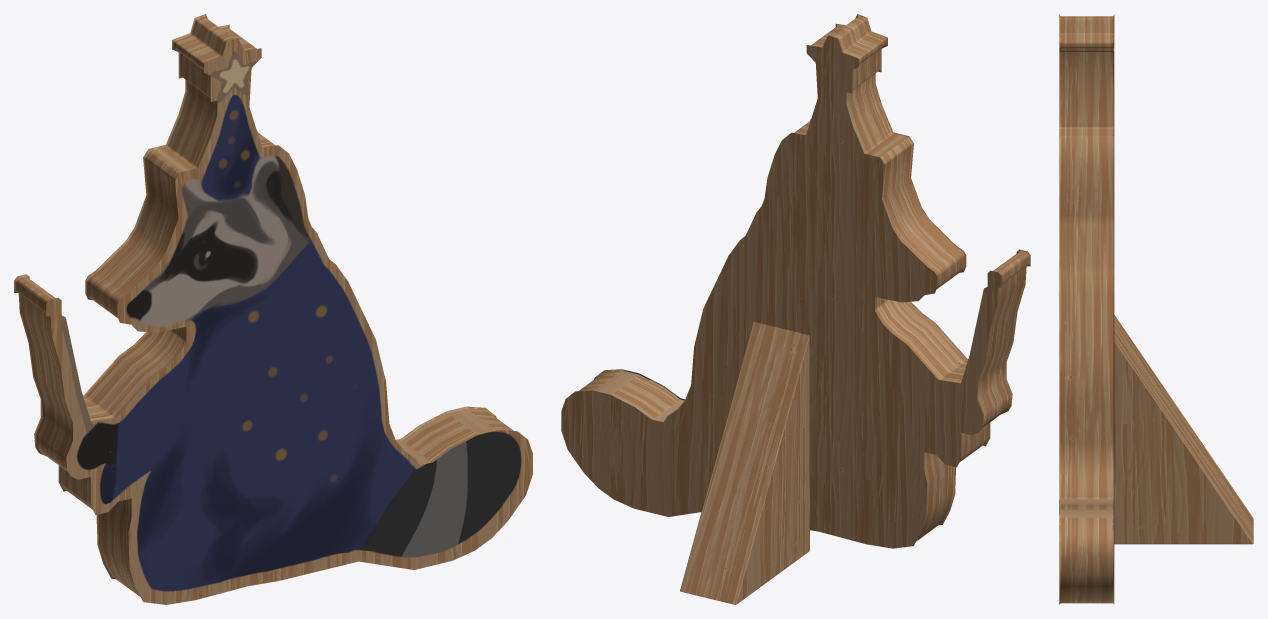
File: frame_1.glb
3 views of the same model, side by side, from view 1: azimuth 30°, elevation 25°; view 2: azimuth 150°, elevation 25°; view 3: azimuth 270°, elevation 25° (orthographic). The views are drawn at different scales.
Parts seen in each view (by area): view 1: frame_1_Block; view 2: frame_1_Block, frame_1_RearBrace; view 3: frame_1_Block, frame_1_RearBrace.
Boxes of the visible parts, bbox=[...] form: frame_1_Block: bbox=[14, 14, 532, 604]; frame_1_Block: bbox=[561, 14, 1030, 548]; frame_1_RearBrace: bbox=[680, 322, 809, 604]; frame_1_Block: bbox=[1059, 14, 1114, 604]; frame_1_RearBrace: bbox=[1114, 315, 1253, 544].
Size of the model in its own units: 1.75 by 1.98 by 0.7071.
Materials: 1 (1 with a texture image).
